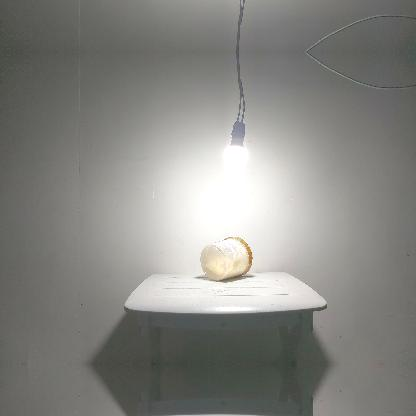Lady-s-Choice: (198, 235, 254, 281)
